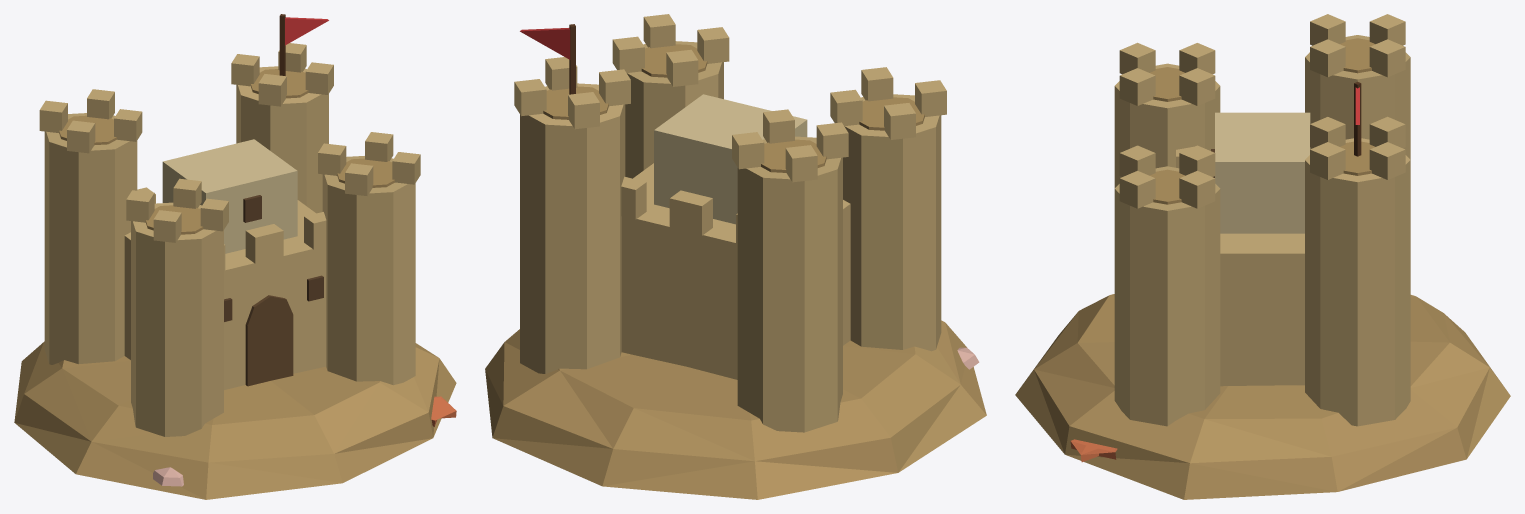
The model's file is Prop_Sandcastle.fbx.
3 renders of one model, left to right at view 1: azimuth 30°, elevation 25°; view 2: azimuth 150°, elevation 25°; view 3: azimuth 270°, elevation 25°, orthographic. The views are drawn at different scales.
Visible parts, largest first — view 1: Body; view 2: Body; view 3: Body.
Boxes of the visible parts, bbox=[...] form: Body: bbox=[14, 14, 456, 499]; Body: bbox=[485, 14, 986, 499]; Body: bbox=[1015, 14, 1510, 499].
Bounding box in the file's own units: 4.57 × 3.82 × 4.69.
